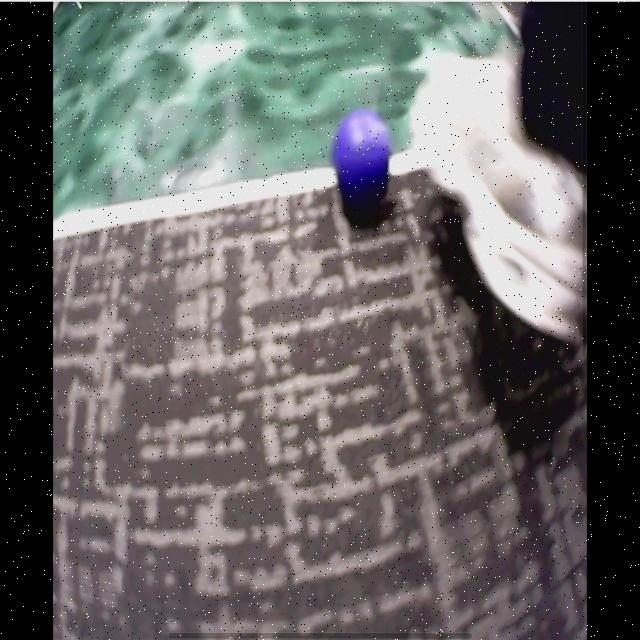ball: (337, 112, 391, 197)
